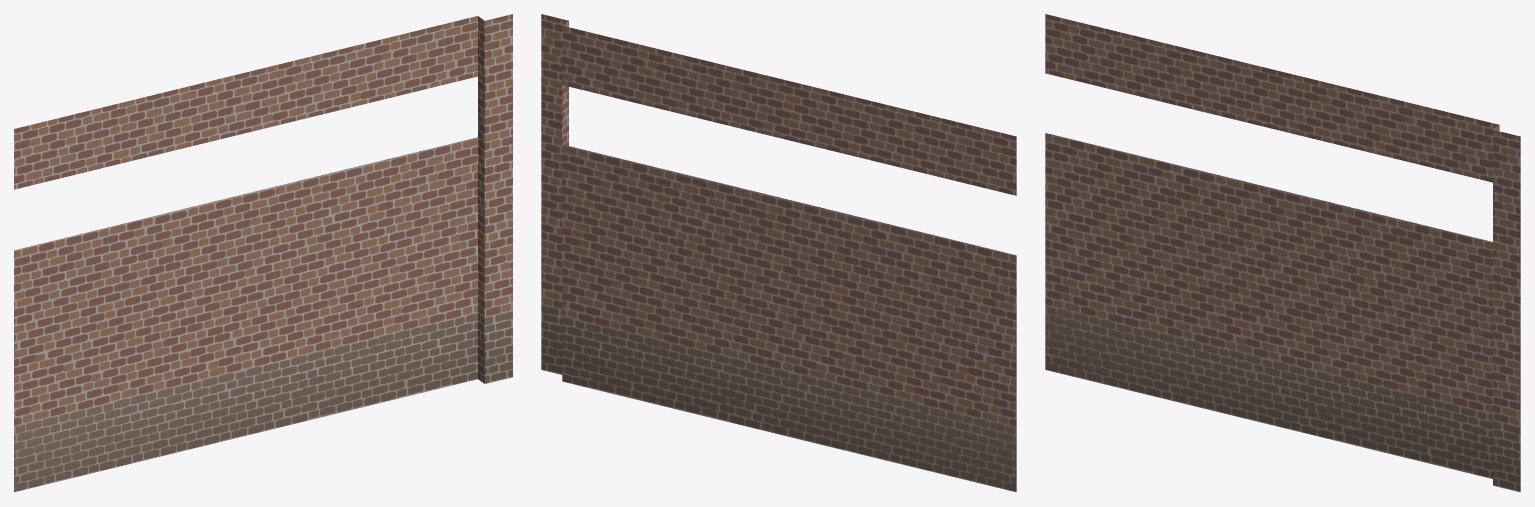
Rendered from MUR.FBX.
3 views of the same model, side by side, from view 1: azimuth 30°, elevation 25°; view 2: azimuth 150°, elevation 25°; view 3: azimuth 330°, elevation 25° (orthographic). The views are drawn at different scales.
Parts seen in each view (by area): view 1: Mur004; view 2: Mur004; view 3: Mur004.
Part boxes in pixels (bbox=[...]): Mur004: bbox=[14, 14, 512, 492]; Mur004: bbox=[541, 14, 1016, 492]; Mur004: bbox=[1045, 14, 1520, 492].
Bounding box in the file's own units: 1116 × 789 × 26.91.
1 material, 1 textured.
